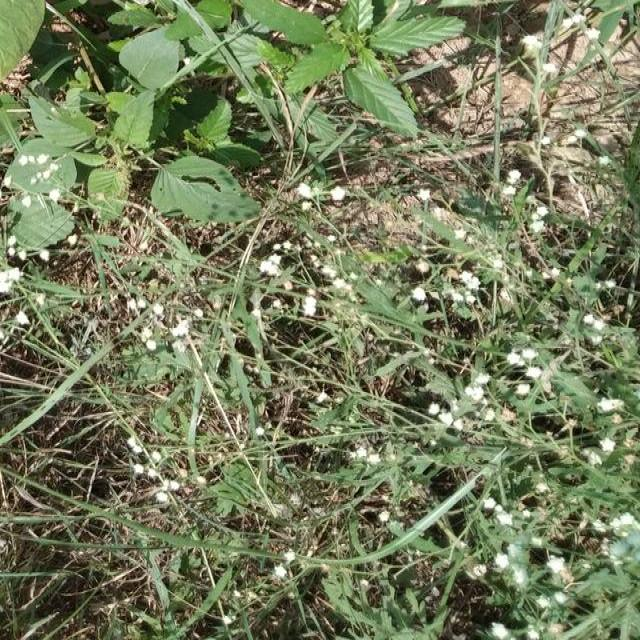weed: (126, 292, 640, 640), (11, 0, 434, 200), (2, 207, 138, 608), (480, 0, 640, 262), (158, 214, 471, 292)
